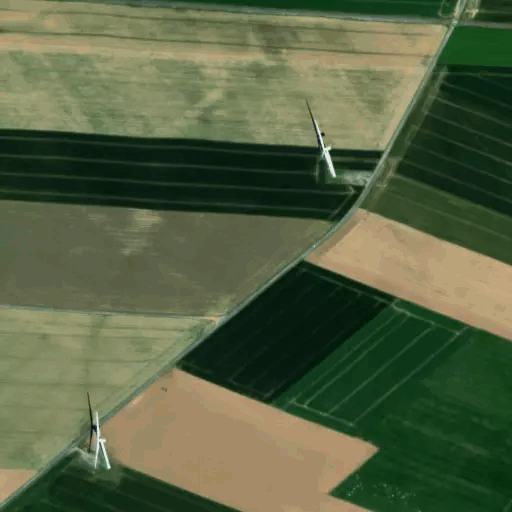wt: (303, 101, 342, 183), (83, 390, 113, 472)
